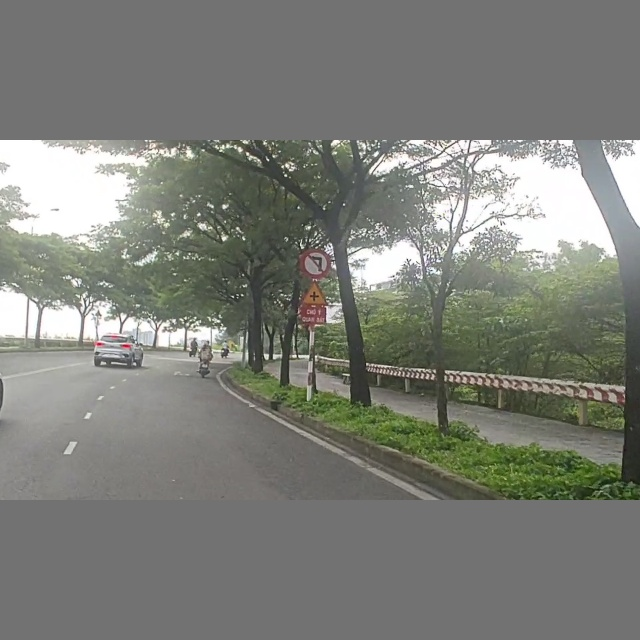P.123a: (302, 246, 333, 280)
W.205a: (296, 278, 331, 307)
